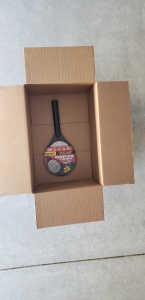innerbox: (24, 84, 102, 187)
outerbox: (3, 48, 134, 224)
product: (42, 102, 75, 176)
